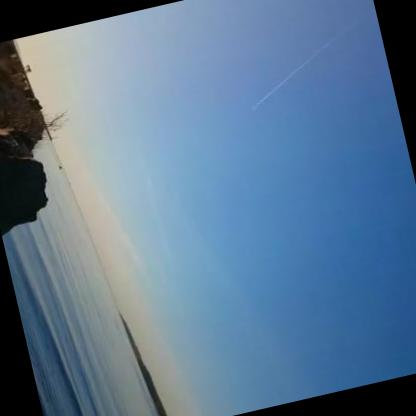plane: (243, 102, 259, 117)
